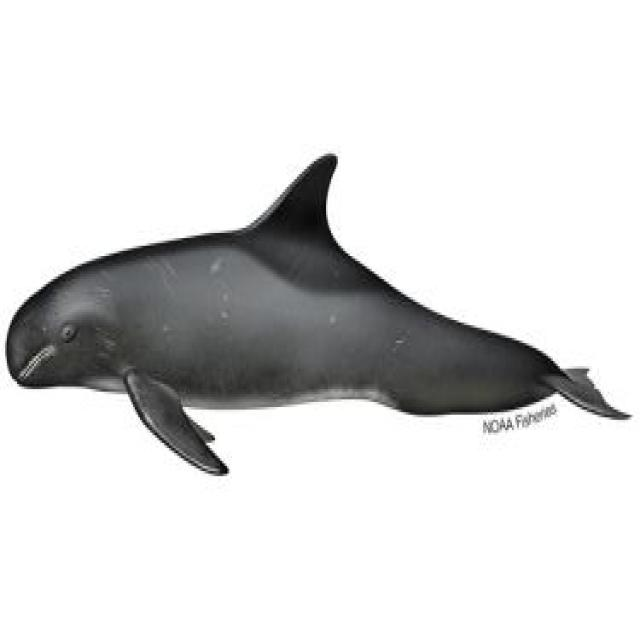penguin: (7, 154, 626, 474)
